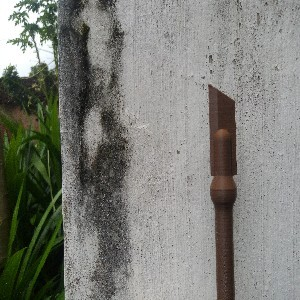cutter: (207, 82, 238, 300)
